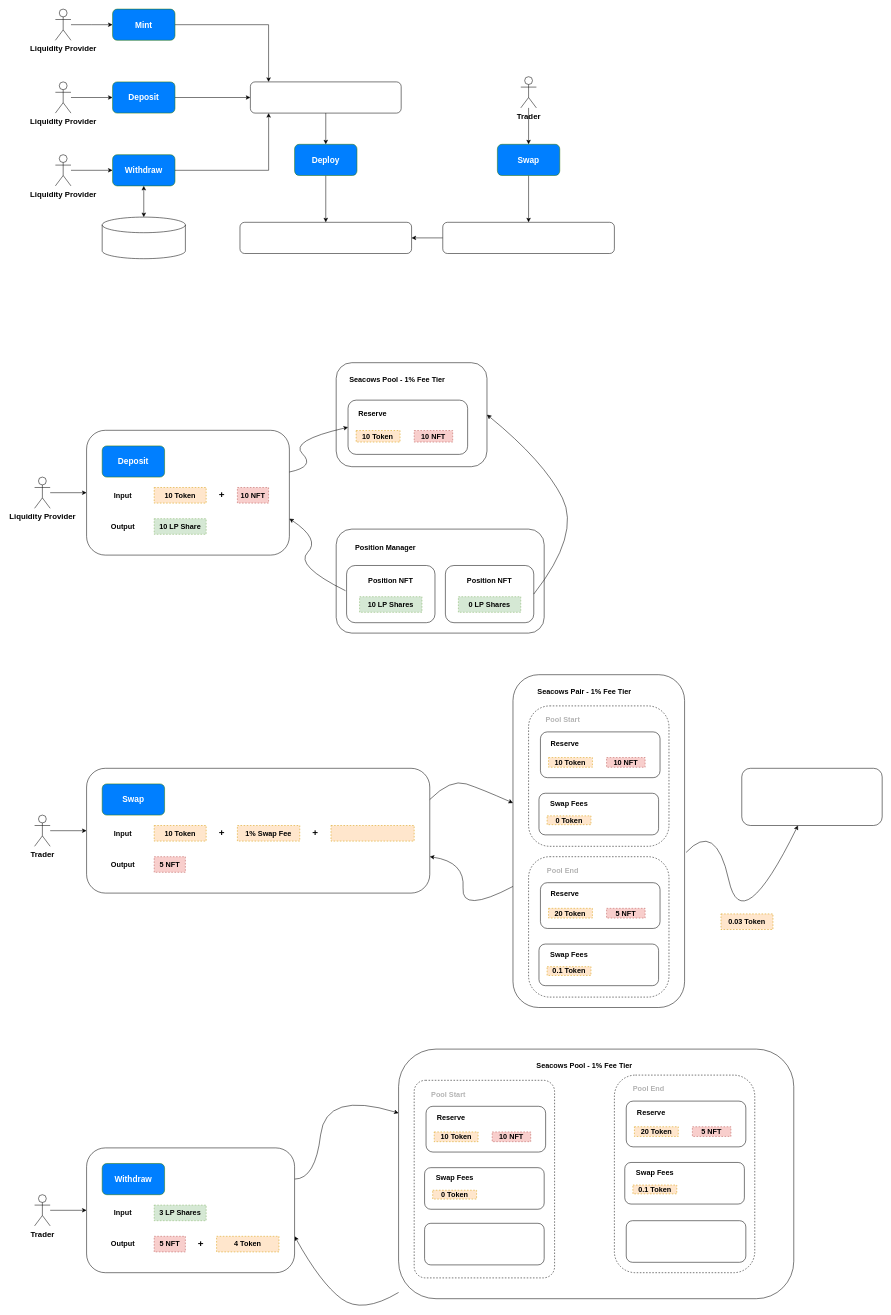
This 891x1315 diagram has some shape labels left out. Each missing label, with the centre of its shape:
0.3% Protocol Fee: pixel 372 833
Fee To 0x........: pixel 811 797
Pricing Kernel Lib: pixel 143 238
SeacowsERC721Pair: pixel 325 238
SeacowsPositionManager: pixel 325 97
SeacowsRouter: pixel 528 238
